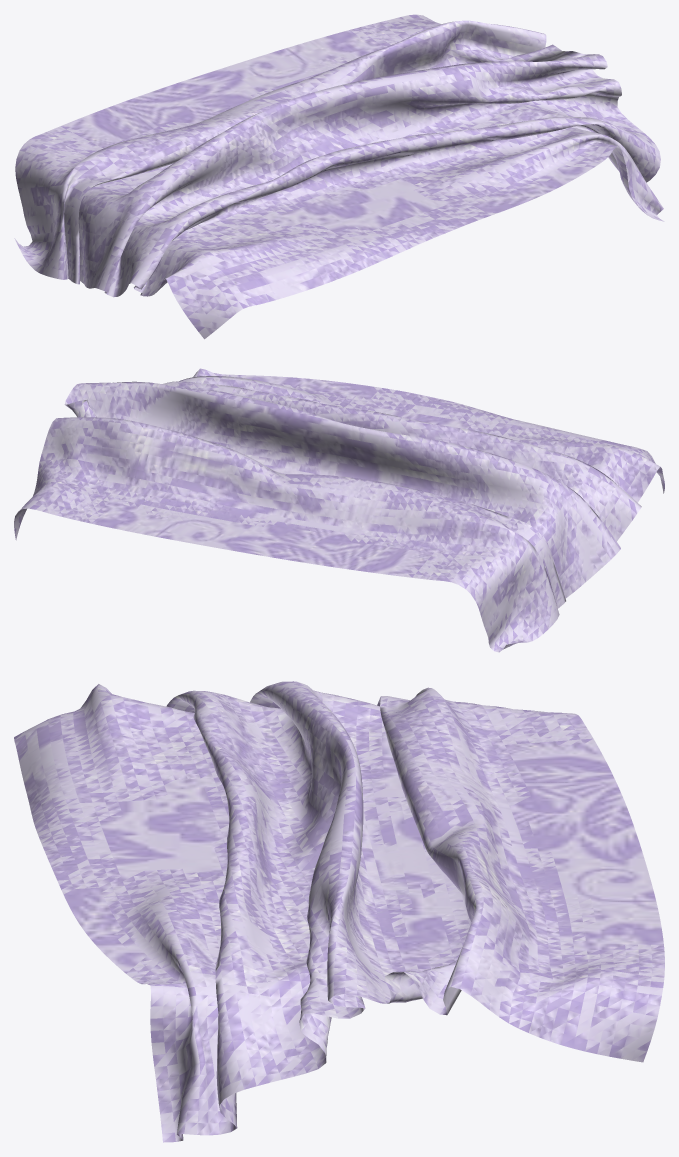
File: Sabana.fbx
The picture shows the model from 3 angles, top to bottom: view 1: azimuth 30°, elevation 25°; view 2: azimuth 150°, elevation 25°; view 3: azimuth 270°, elevation 25°; orthographic projection. The views are drawn at different scales.
Parts seen in each view (by area): view 1: obj_04_1_1; view 2: obj_04_1_1; view 3: obj_04_1_1.
Boxes of the visible parts, x1,y1,x2,y2 form: obj_04_1_1: (14, 14, 664, 339); obj_04_1_1: (14, 368, 664, 652); obj_04_1_1: (14, 681, 664, 1142).
Bounding box in the file's own units: 1.97 × 0.4942 × 1.5.
